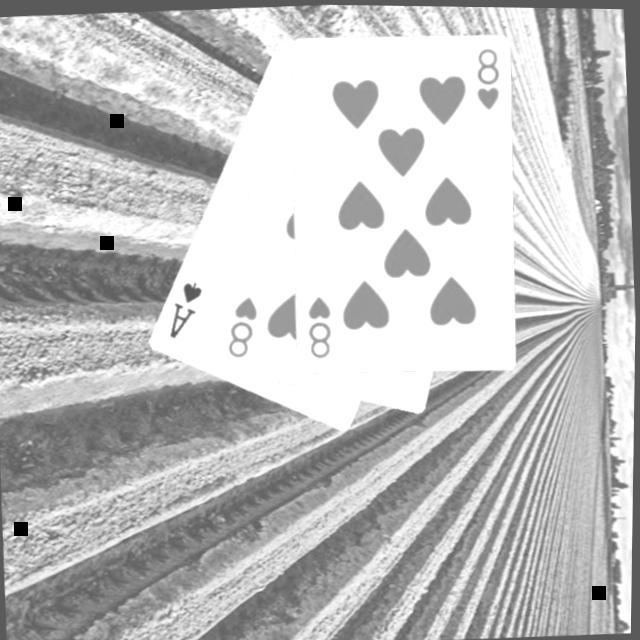8H: (223, 292, 266, 362), (304, 292, 339, 361), (472, 44, 506, 113)
AS: (165, 277, 211, 343)
